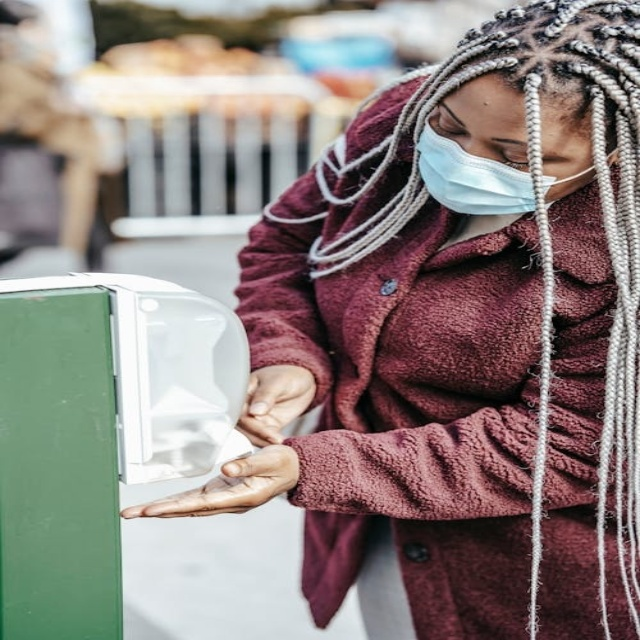Mascara: (414, 119, 594, 215)
Sin_gafas: (428, 93, 575, 174)
Sin_guantes: (120, 442, 301, 519), (234, 363, 316, 447)
